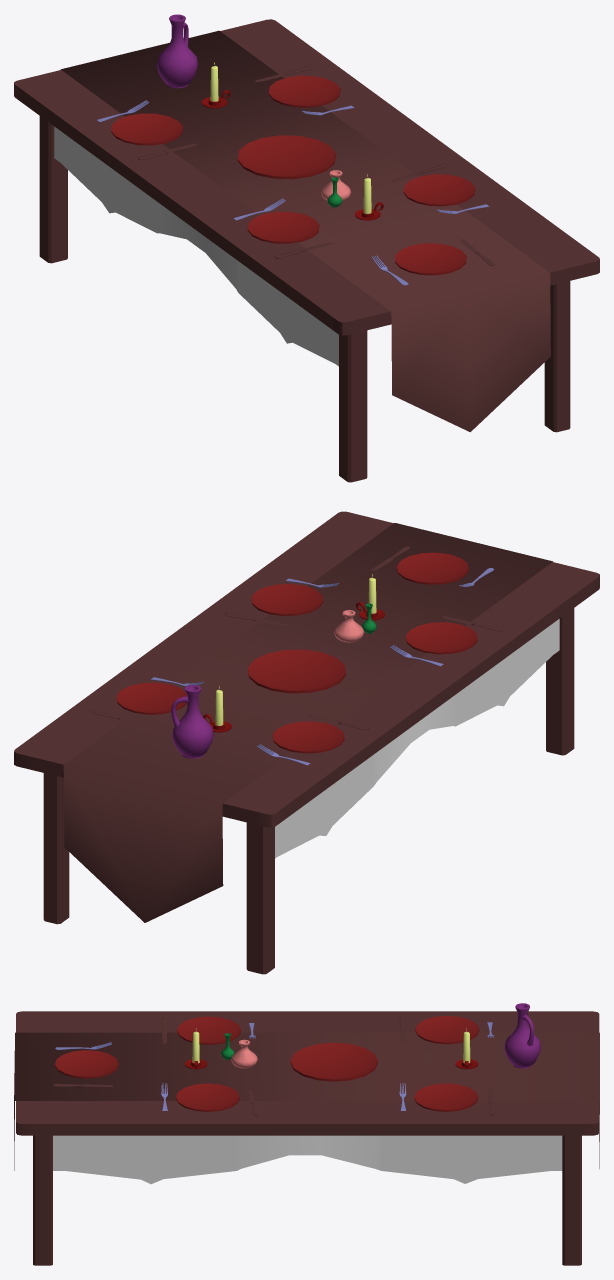
The model's file is Table.fbx.
3 views of the same model, one above another, from view 1: azimuth 30°, elevation 25°; view 2: azimuth 150°, elevation 25°; view 3: azimuth 270°, elevation 25° (orthographic). The views are drawn at different scales.
Parts seen in each view (by area): view 1: Nappe, Box001, Box003, Plate005, Vase_2, Plate002, Plate004, Plate, Plate001, Plate003; view 2: Nappe, Box001, Box003, Plate005, Vase_2, Plate002, Plate004, Plate, Plate003, Plate001, Vase_3; view 3: Box001, Nappe, Box002, Plate005, Vase_2, Plate, Plate004, Plate001, Plate002, Plate003, Vase_3.
Part boxes in pixels (x1,y1,x2,y2): Nappe: [60, 30, 550, 432]; Box001: [14, 19, 599, 482]; Box003: [54, 126, 338, 366]; Plate005: [237, 135, 335, 179]; Vase_2: [156, 14, 198, 88]; Plate002: [111, 113, 182, 145]; Plate004: [395, 243, 466, 275]; Plate: [403, 174, 475, 206]; Plate001: [268, 75, 340, 107]; Plate003: [247, 211, 319, 243]; Nappe: [63, 523, 553, 922]; Box001: [14, 511, 599, 974]; Box003: [275, 619, 559, 858]; Plate005: [248, 649, 345, 693]; Vase_2: [171, 685, 213, 758]; Plate002: [272, 721, 344, 753]; Plate004: [396, 552, 468, 584]; Plate: [251, 584, 323, 615]; Plate003: [406, 622, 477, 654]; Plate001: [116, 682, 186, 714]; Vase_3: [334, 610, 364, 642]; Box001: [16, 1011, 599, 1265]; Nappe: [14, 1032, 599, 1170]; Box002: [53, 1135, 562, 1184]; Plate005: [290, 1042, 377, 1081]; Vase_2: [504, 1003, 540, 1068]; Plate: [176, 1083, 239, 1111]; Plate004: [55, 1050, 118, 1078]; Plate001: [414, 1083, 478, 1111]; Plate002: [415, 1015, 479, 1044]; Plate003: [177, 1016, 240, 1044]; Vase_3: [231, 1039, 257, 1068].
Size of the model in its own units: 141 by 122 by 310.
